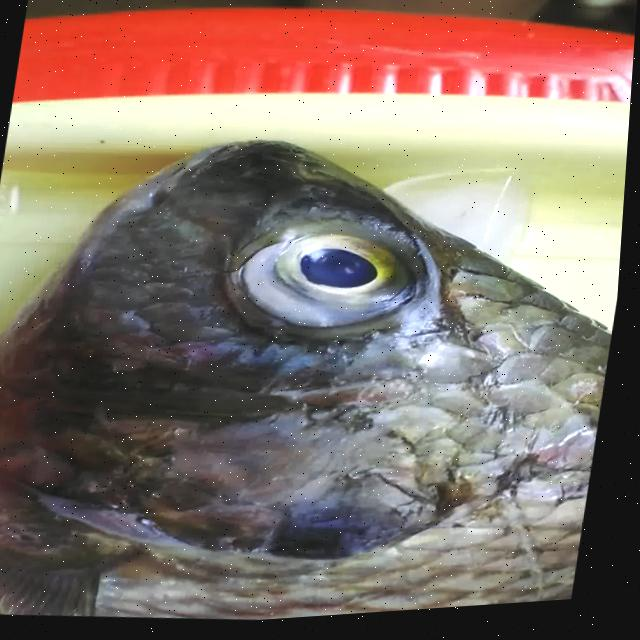Fresh: (203, 199, 456, 360)
